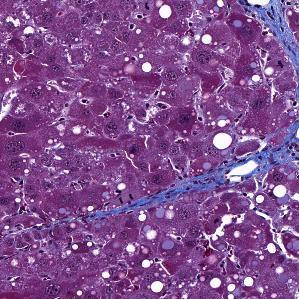fibrosis: (131, 162, 226, 212), (241, 7, 298, 70)
